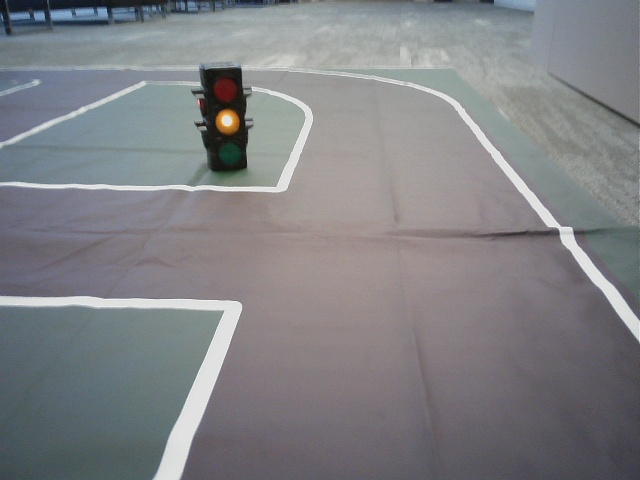yellow: (206, 69, 245, 164)
